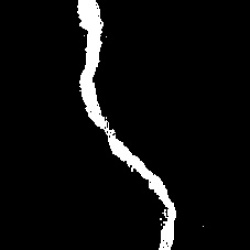crack: (77, 1, 180, 247)
